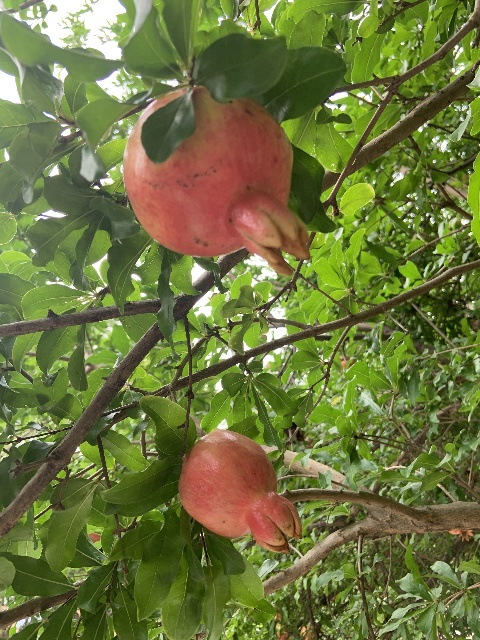ripe: (123, 85, 310, 276), (178, 429, 302, 553)
